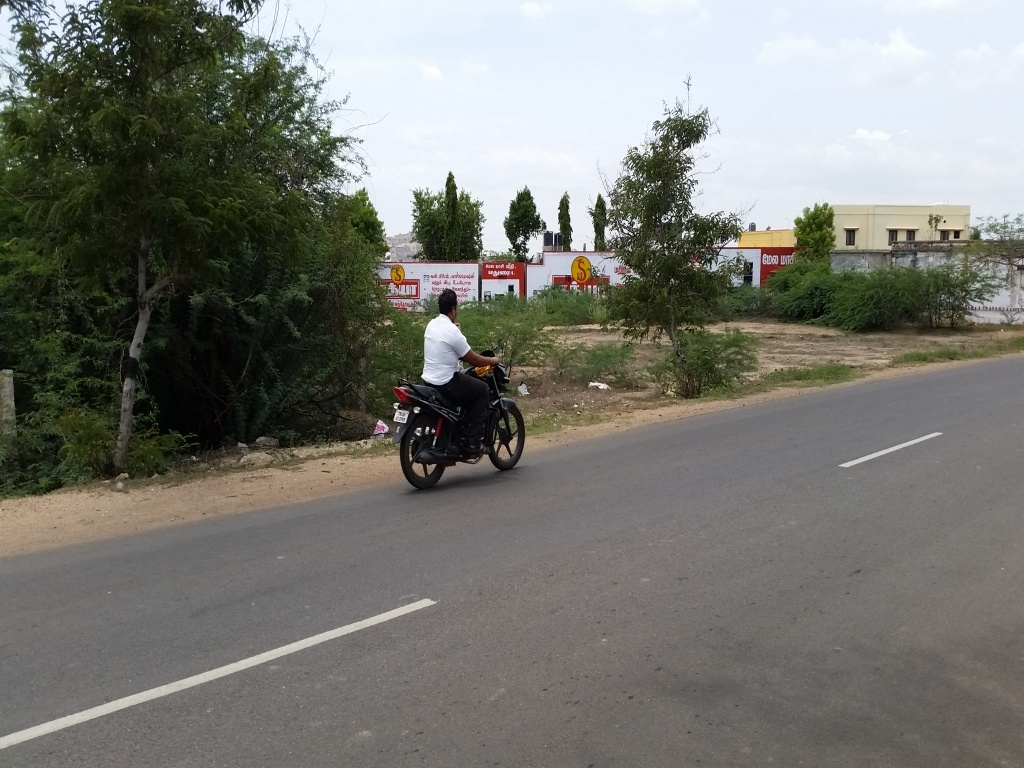biker: (371, 256, 546, 510)
nohelmet: (427, 280, 470, 336)
